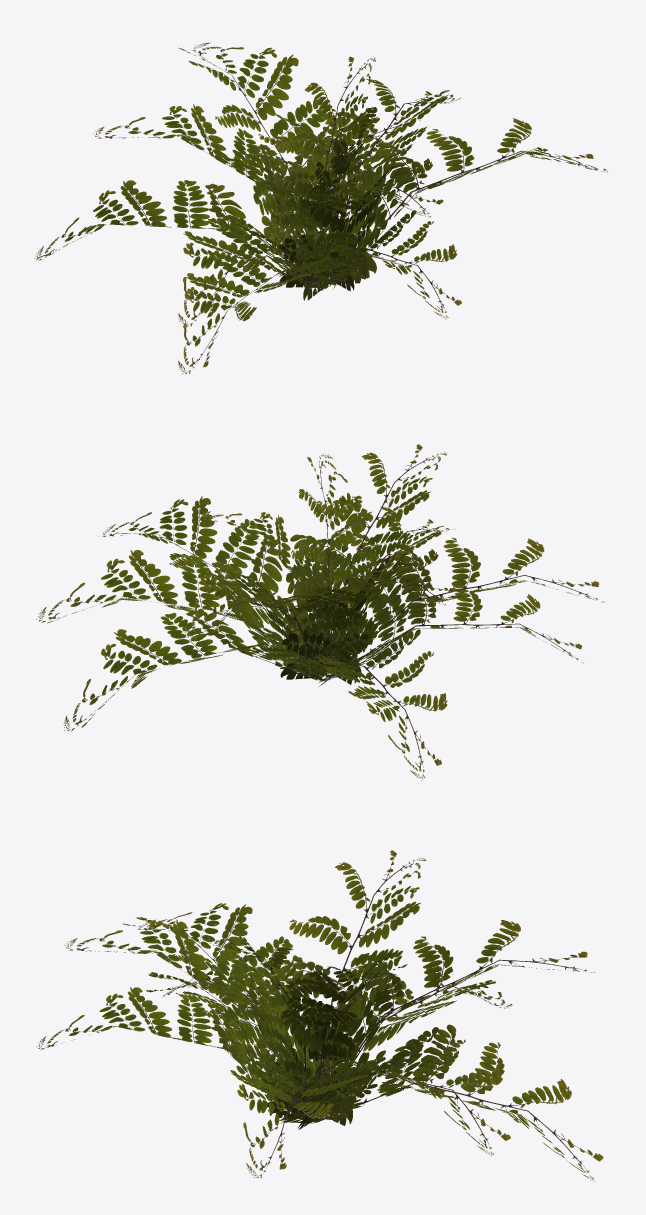
Rendered from caveFern_01.DAE.
3 views of the same model, one above another, from view 1: azimuth 30°, elevation 25°; view 2: azimuth 150°, elevation 25°; view 3: azimuth 270°, elevation 25° (orthographic). The views are drawn at different scales.
Visible parts, largest first — view 1: CaveFernOne128; view 2: CaveFernOne128; view 3: CaveFernOne128.
Boxes of the visible parts, left/top/right/bottom form: CaveFernOne128: left=34, top=42, right=607, bottom=374; CaveFernOne128: left=36, top=444, right=604, bottom=780; CaveFernOne128: left=36, top=850, right=603, bottom=1181.
Bounding box in the file's own units: 15.98 × 15.17 × 6.13.
